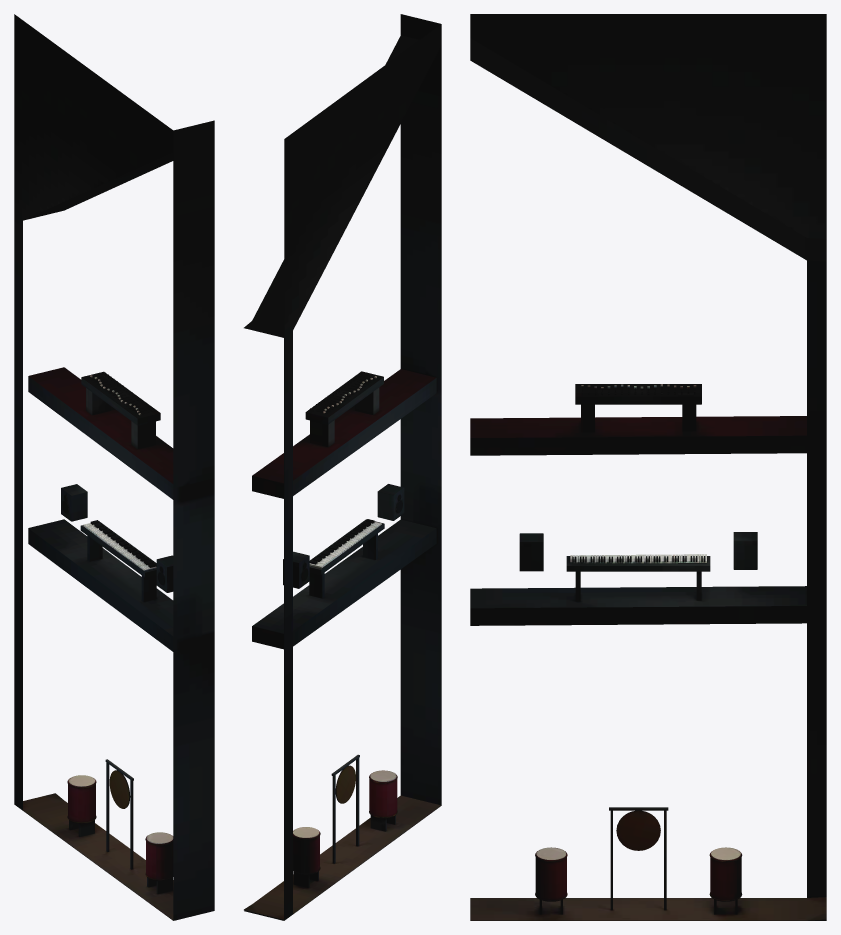
The model's file is music-front-tower-v01.glb.
The picture shows the model from 3 angles, left to right: view 1: azimuth 30°, elevation 25°; view 2: azimuth 150°, elevation 25°; view 3: azimuth 270°, elevation 25°; orthographic projection. The views are drawn at different scales.
Visible parts, largest first — view 1: MUSIC_BAKED_FRONT; view 2: MUSIC_BAKED_FRONT; view 3: MUSIC_BAKED_FRONT.
Boxes of the visible parts, x1,y1,x2,y2 form: MUSIC_BAKED_FRONT: [14, 14, 214, 920]; MUSIC_BAKED_FRONT: [244, 14, 441, 920]; MUSIC_BAKED_FRONT: [470, 14, 826, 920].
Size of the model in its own units: 0.3784 by 6.93 by 2.53.
Materials: 1 (1 with a texture image).
